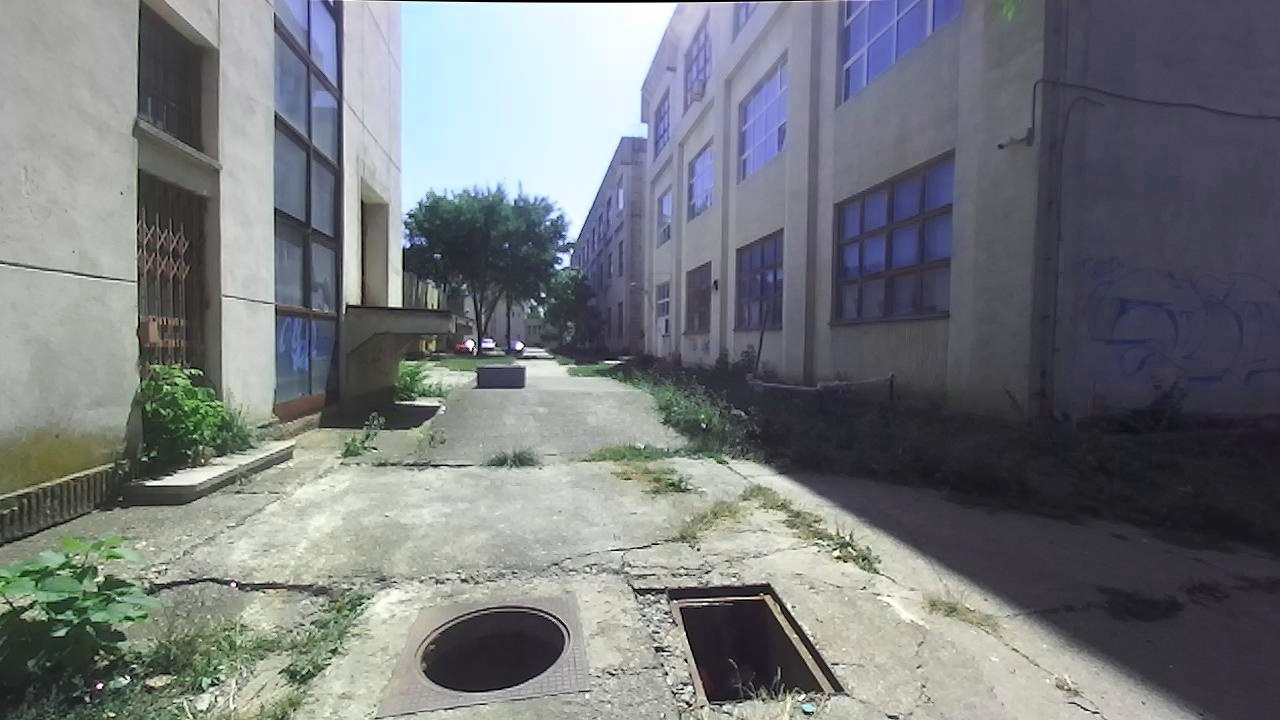drain: (666, 578, 858, 701), (411, 600, 575, 697)
